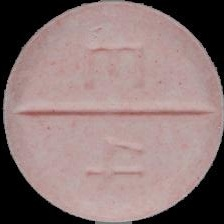0378-1454: (0, 0, 224, 224)
